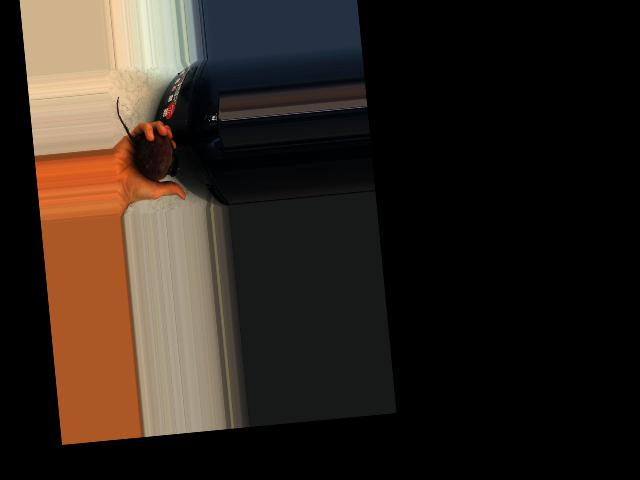beet: (115, 91, 180, 183)
